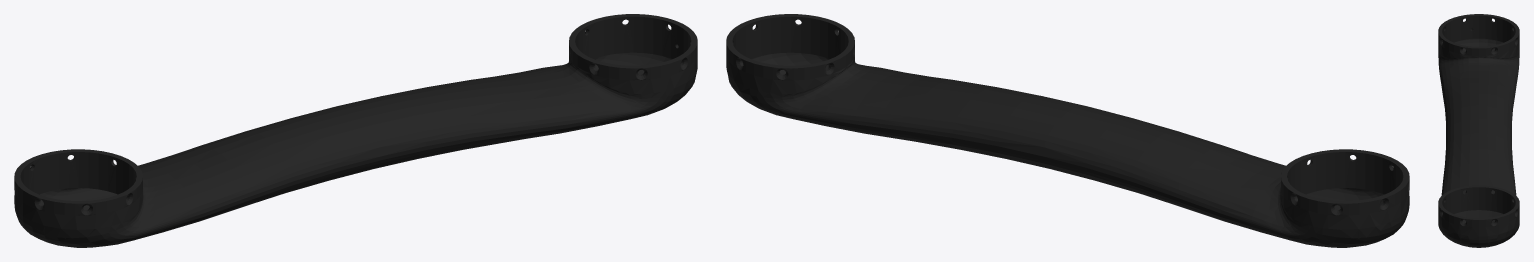
The model's file is jaco_link_2.min.dae.
The picture shows the model from 3 angles, left to right: view 1: azimuth 30°, elevation 25°; view 2: azimuth 150°, elevation 25°; view 3: azimuth 270°, elevation 25°; orthographic projection. The views are drawn at different scales.
Parts seen in each view (by area): view 1: Component_1 (×5); view 2: Component_1 (×5); view 3: Component_1 (×5).
Part boxes in pixels (x1,y1,x2,y2): Component_1 (×5): (14, 14, 697, 247); Component_1 (×5): (726, 14, 1409, 247); Component_1 (×5): (1438, 14, 1519, 247).
Bounding box in the file's own units: 763 × 128 × 66.26.
Materials: 1 (1 with a texture image).
